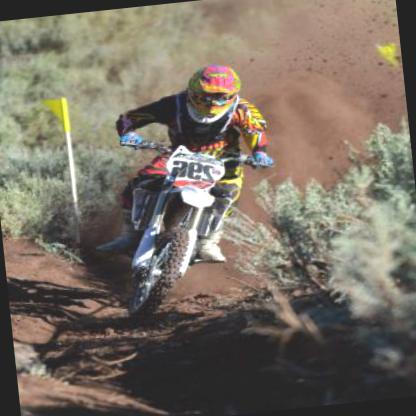motorcycle: (113, 120, 283, 319)
